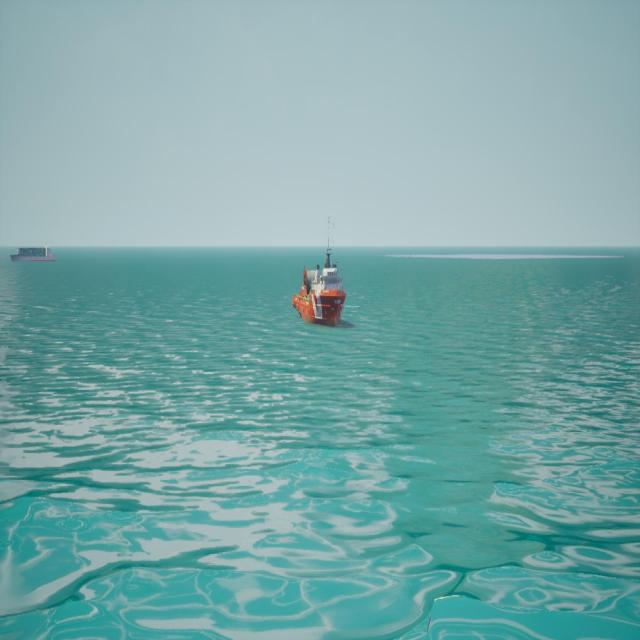tug boat: (293, 238, 345, 331)
